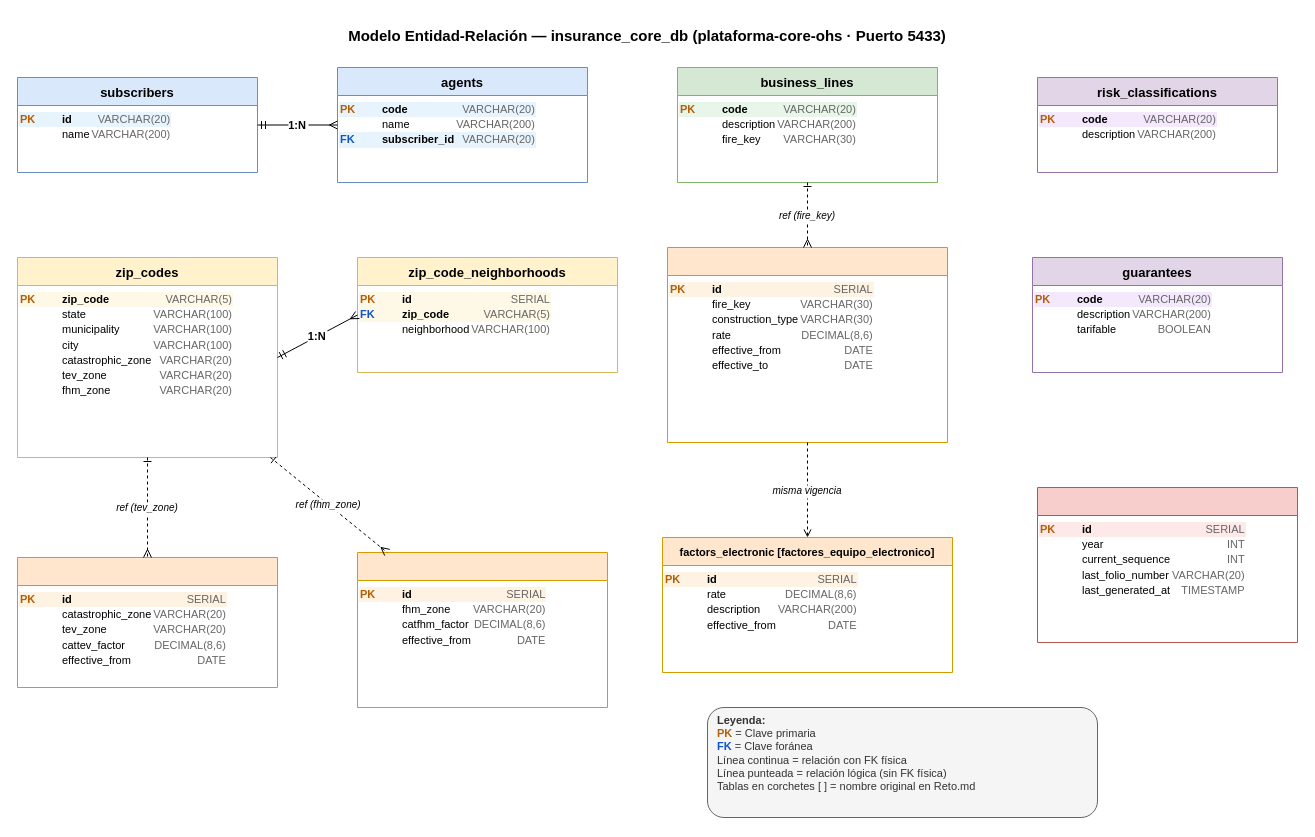
This 1315x837 diagram has some shape labels left out. Each missing label, with the box of its shape:
folio_sequences: (1036, 486, 1298, 642)
tariffs_cat [tarifas_cat]: (16, 556, 278, 688)
tariffs_fhm [tarifa_fhm]: (356, 552, 608, 708)
tariffs_fire [tarifas_incendio]: (666, 246, 948, 442)
